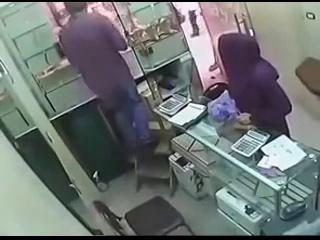Normal: (47, 3, 159, 150)
